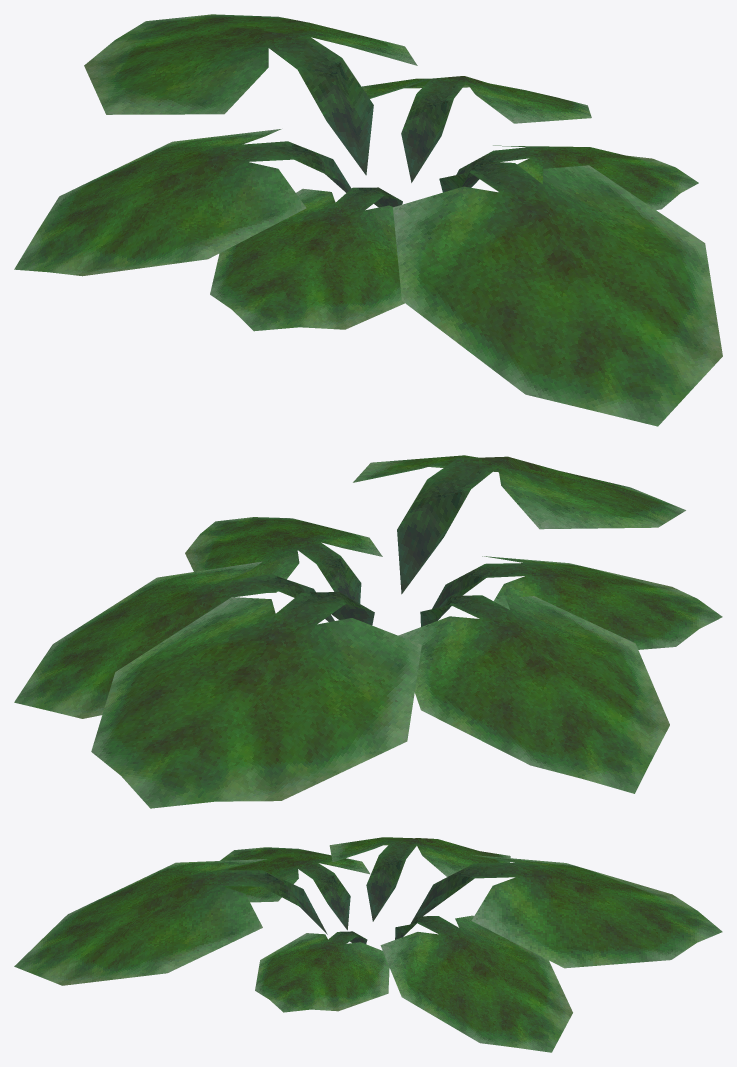
Rendered from grass_05.glb.
3 views of the same model, one above another, from view 1: azimuth 30°, elevation 25°; view 2: azimuth 150°, elevation 25°; view 3: azimuth 270°, elevation 25° (orthographic). The views are drawn at different scales.
Parts seen in each view (by area): view 1: GRASS_05; view 2: GRASS_05; view 3: GRASS_05.
Part boxes in pixels (x1,y1,x2,y2): GRASS_05: [14, 14, 722, 426]; GRASS_05: [14, 455, 722, 808]; GRASS_05: [14, 837, 722, 1052].
Bounding box in the file's own units: 1.16 × 0.255 × 1.73.
Materials: 1 (1 with a texture image).
